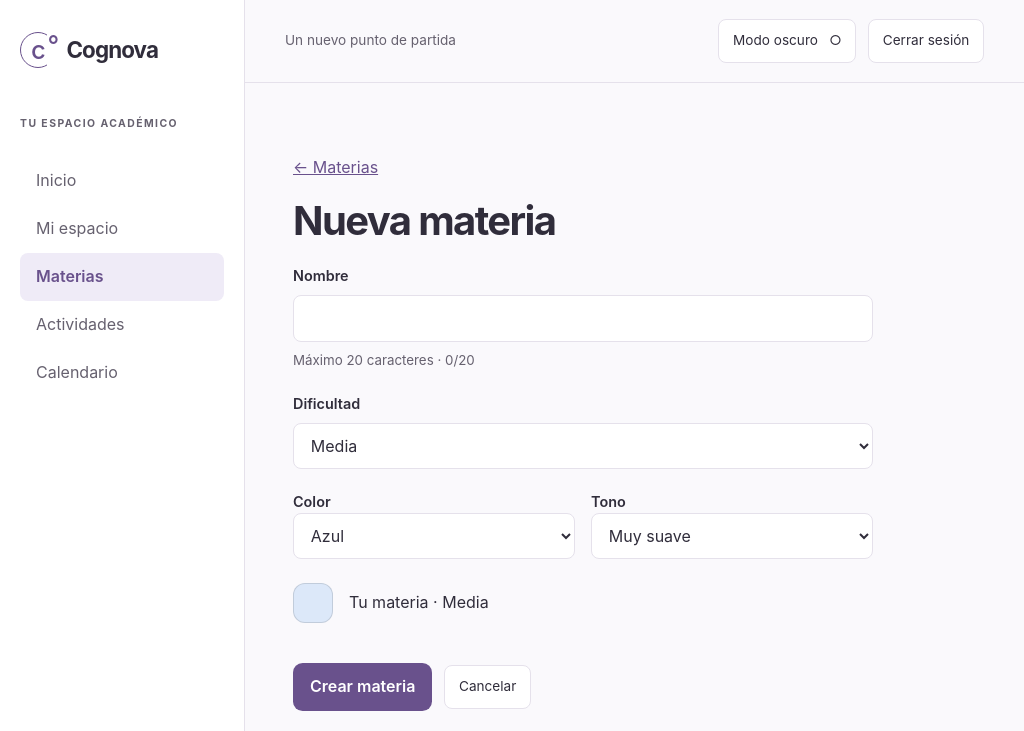
it: Subjects routes and state › preserves a duplicate draft and displays conflict guidance
This screenshot has width=1024, height=731.
In the field labelled "Nombre": (583, 319) [293,295,873,342], type "Duplicada"
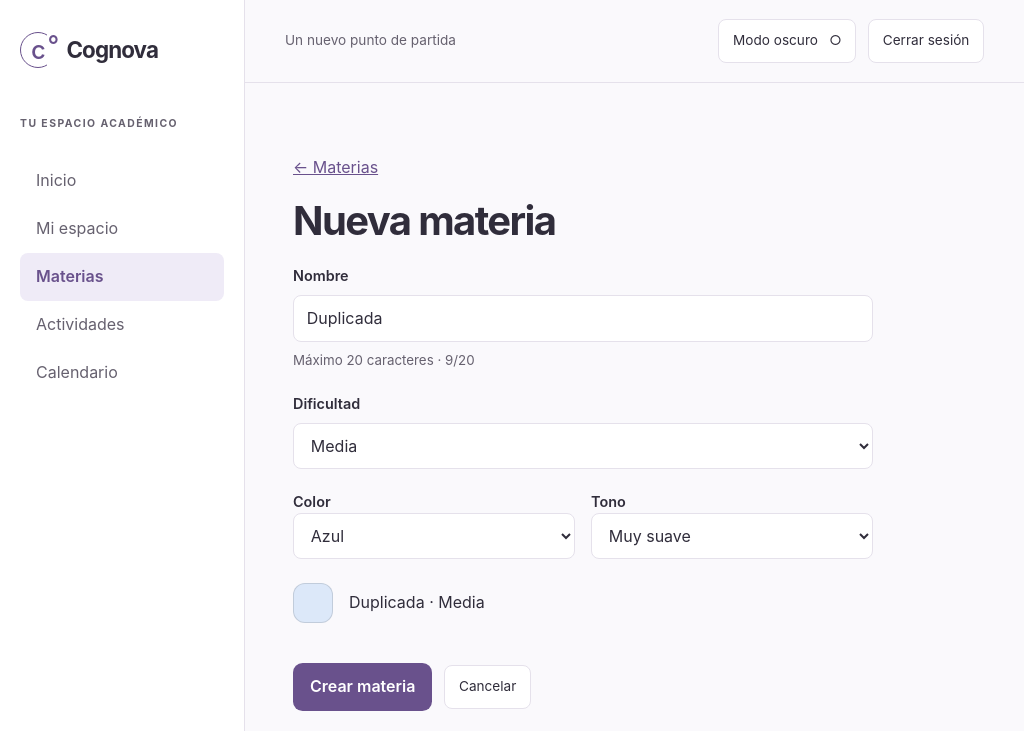
Click the button "Crear materia": click(363, 687) [293,663,432,711]
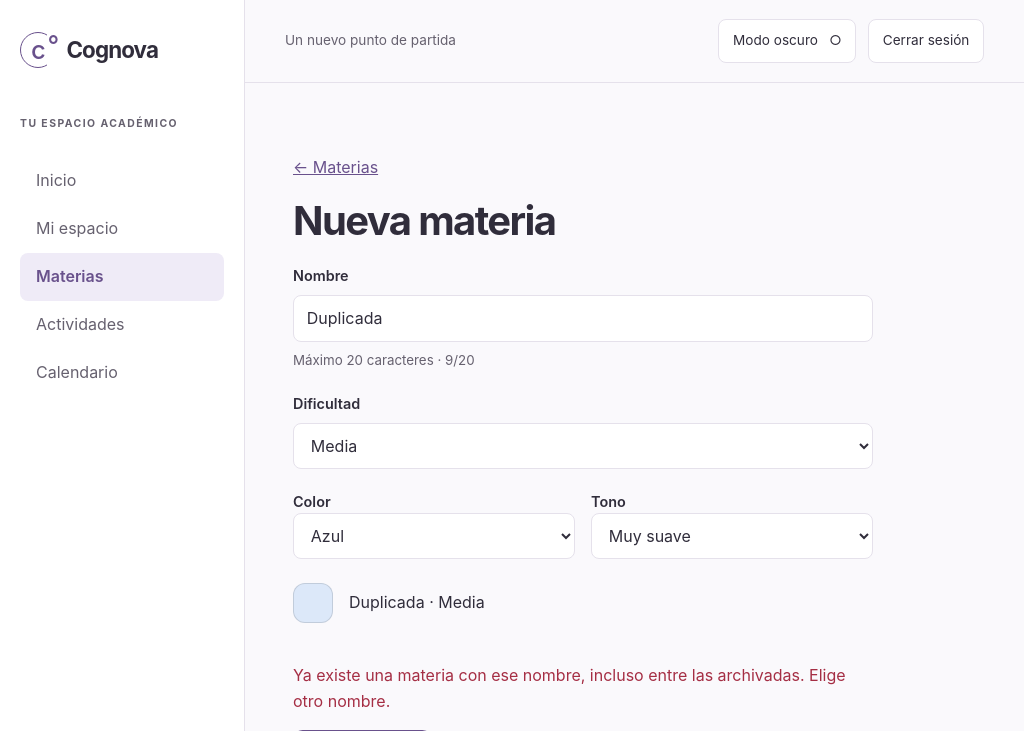
Expected: the message shows "Ya existe una materia con ese nombre", [293,665,846,711]
